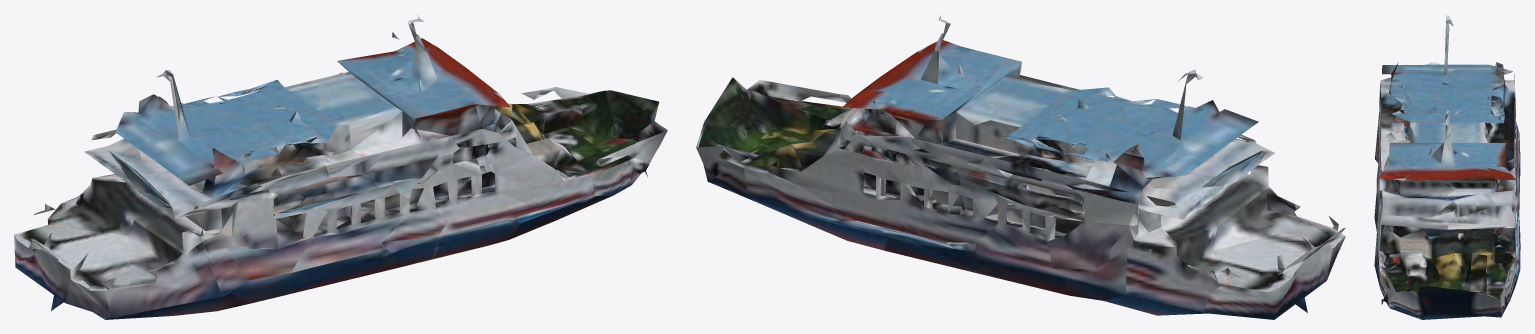
Rendered from ferry_lod2.glb.
3 renders of one model, left to right at view 1: azimuth 30°, elevation 25°; view 2: azimuth 150°, elevation 25°; view 3: azimuth 270°, elevation 25°, orthographic. The views are drawn at different scales.
Visible parts, largest first — view 1: tripo_node_c8aa0972; view 2: tripo_node_c8aa0972; view 3: tripo_node_c8aa0972.
Part boxes in pixels (bbox=[...]): tripo_node_c8aa0972: bbox=[14, 14, 667, 319]; tripo_node_c8aa0972: bbox=[696, 15, 1345, 319]; tripo_node_c8aa0972: bbox=[1374, 14, 1520, 319].
Bounding box in the file's own units: 99.82 × 33.21 × 27.88.
1 material, 1 textured.
